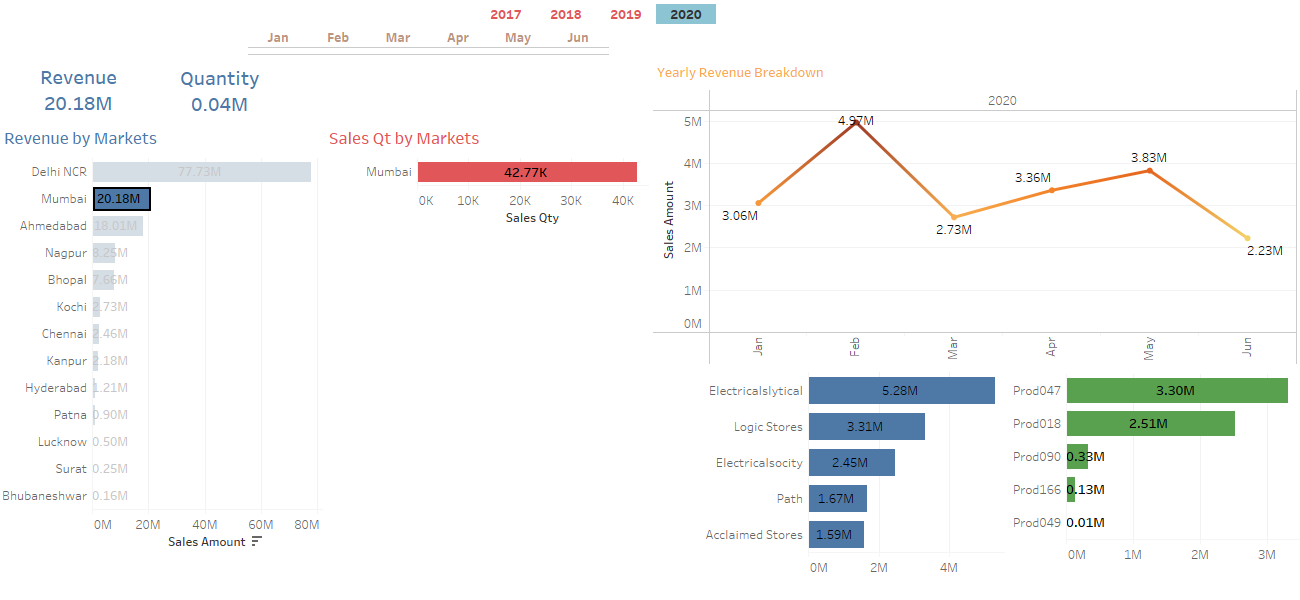

This screenshot's page, from the dashboard's own definition file:
{"tool":"tableau","page":{"name":"Sales Insights","canvas":[1300,600],"ordinal":1},"visuals":[{"type":"worksheet","title":"Year Tab","mark":"Automatic","cols":["cy_date"],"box":[475.8,3.8,314.6,20.2]},{"type":"worksheet","title":"Month Tab","mark":"Automatic","cols":["cy_date"],"box":[248,27,725,31]},{"type":"worksheet","title":"Yearly Revenue Breakdown","mark":"Automatic","rows":["sales_amount"],"cols":["cy_date","cy_date"],"box":[653,57,644,308]},{"type":"worksheet","title":"Revenue","mark":"Automatic","box":[29,64,104,58]},{"type":"worksheet","title":"Sales Quantity","mark":"Automatic","box":[170,65,116,62]},{"type":"worksheet","title":"Revenue by Markets","mark":"Automatic","rows":["markets_name"],"cols":["sales_amount"],"box":[0,121,322,466]},{"type":"worksheet","title":"Sales Qt by Markets","mark":"Automatic","rows":["markets_name"],"cols":["sales_qty"],"box":[325,121,323,468]},{"type":"worksheet","title":"Top Customers","mark":"Automatic","rows":["custmer_name"],"cols":["sales_amount"],"box":[684,372,320,216]},{"type":"worksheet","title":"Top Products","mark":"Automatic","rows":["product_code (products)"],"cols":["sales_amount"],"box":[1010,374,289,214]}]}

Visuals, with their boxes in screenshot pixels (x1, y1, x2, y2), scaled from the page's 1300x600 canvas onto the 1300x600 screenshot:
"Year Tab" worksheet: [476,4,790,24]
"Month Tab" worksheet: [248,27,973,58]
"Yearly Revenue Breakdown" worksheet: [653,57,1297,365]
"Revenue" worksheet: [29,64,133,122]
"Sales Quantity" worksheet: [170,65,286,127]
"Revenue by Markets" worksheet: [0,121,322,587]
"Sales Qt by Markets" worksheet: [325,121,648,589]
"Top Customers" worksheet: [684,372,1004,588]
"Top Products" worksheet: [1010,374,1299,588]
